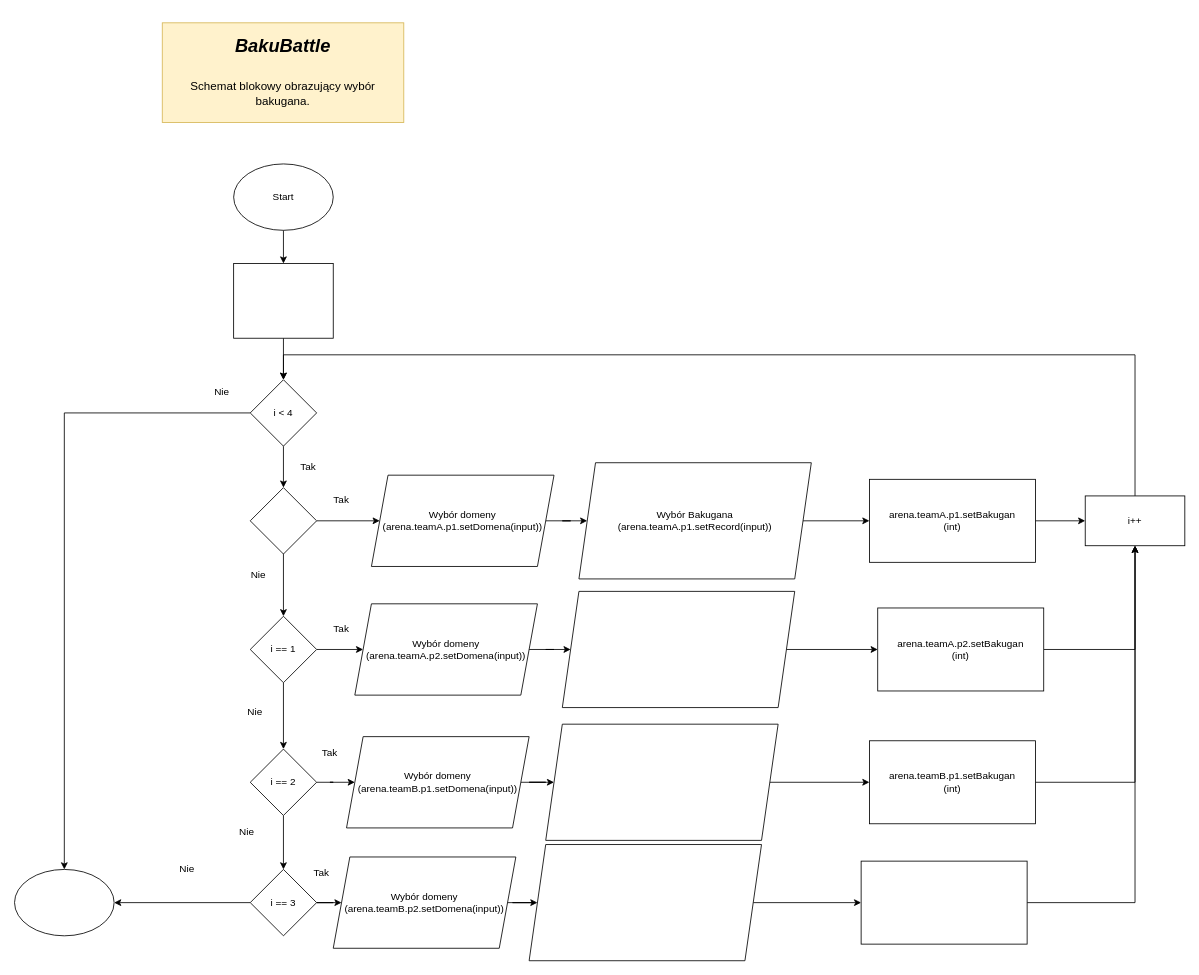
The diagram is 1199 pixels wide and 975 high, and some of its shapes have lost their labels. Each missing label, with the centre of its shape:
Arena arena int i = 0: the point at 283,300
arena.teamB.p2.setBakugan (int): the point at 943,902
End: the point at 64,902
i == 0: the point at 283,520
Wybór Bakugana (arena.teamA.p2.setRecord(input)): the point at 678,649
Wybór Bakugana (arena.teamB.p1.setRecord(input)): the point at 661,781
Wybór Bakugana (arena.teamB.p2.setRecord(input)): the point at 645,902
